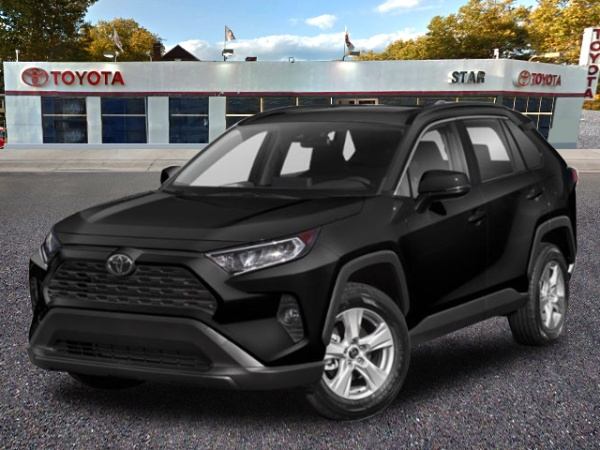Toyota RAV-4: (26, 102, 579, 424)
